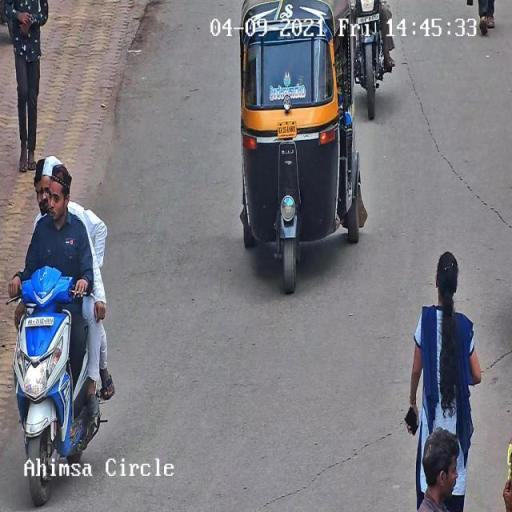tripple riding: (6, 153, 112, 317)
